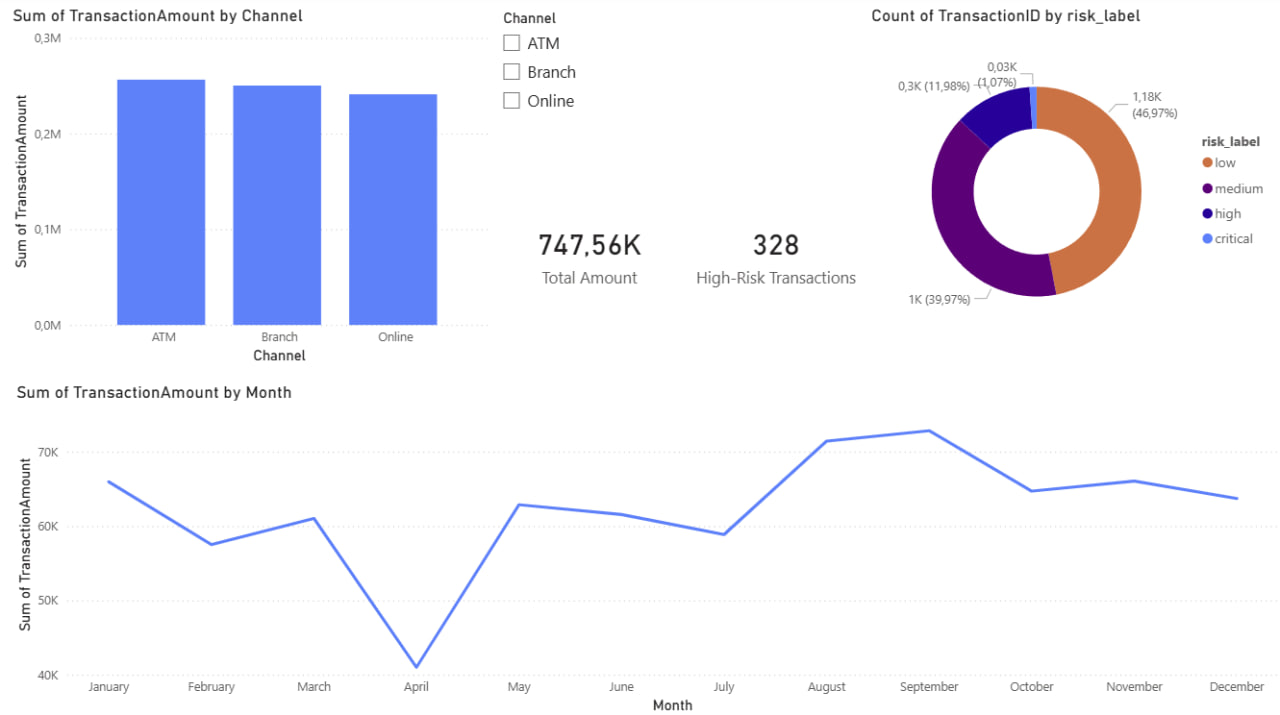

This screenshot's page, from the dashboard's own definition file:
{"tool":"powerbi","page":{"name":"Page 1","canvas":[1280,720],"ordinal":0},"visuals":[{"type":"clusteredColumnChart","fields":{"Category":["Transactions.Channel"],"Y":["Sum(Transactions.TransactionAmount)"]},"box":[8.6,8.6,484.2,362.4],"z":0},{"type":"lineChart","fields":{"Category":["Transactions.TransactionDate.Variation.Date Hierarchy.Year","Transactions.TransactionDate.Variation.Date Hierarchy.Quarter","Transactions.TransactionDate.Variation.Date Hierarchy.Month","Transactions.TransactionDate.Variation.Date Hierarchy.Day"],"Y":["Sum(Transactions.TransactionAmount)"]},"box":[12.5,384.5,1267.5,335.6],"z":1000},{"type":"donutChart","fields":{"Category":["Transactions.risk_label"],"Y":["CountNonNull(Transactions.TransactionID)"]},"box":[864.8,8.6,415.2,353.8],"z":2000},{"type":"card","fields":{"Values":["Sum(Transactions.TransactionAmount)"]},"box":[492.8,153.4,191.8,206.1],"z":3000},{"type":"card","fields":{"Values":["CountNonNull(Transactions.TransactionID)"]},"box":[684.6,153.4,180.3,206.1],"z":4000},{"type":"slicer","fields":{"Values":["Transactions.Channel"]},"box":[489.9,8.6,374.9,144.8],"z":5000}]}

Visuals, with their boxes in screenshot pixels (x1, y1, x2, y2), scaled from the page's 1280x720 canvas onto the 1280x715 screenshot:
clusteredColumnChart - Transactions.Channel x Sum(Transactions.TransactionAmount): (9,9,493,368)
lineChart - Transactions.TransactionDate.Variation.Date Hierarchy.Year x Transactions.TransactionDate.Variation.Date Hierarchy.Quarter: (12,382,1279,714)
donutChart - Transactions.risk_label x CountNonNull(Transactions.TransactionID): (865,9,1279,360)
card - Sum(Transactions.TransactionAmount): (493,152,685,357)
card - CountNonNull(Transactions.TransactionID): (685,152,865,357)
slicer - Transactions.Channel: (490,9,865,152)
